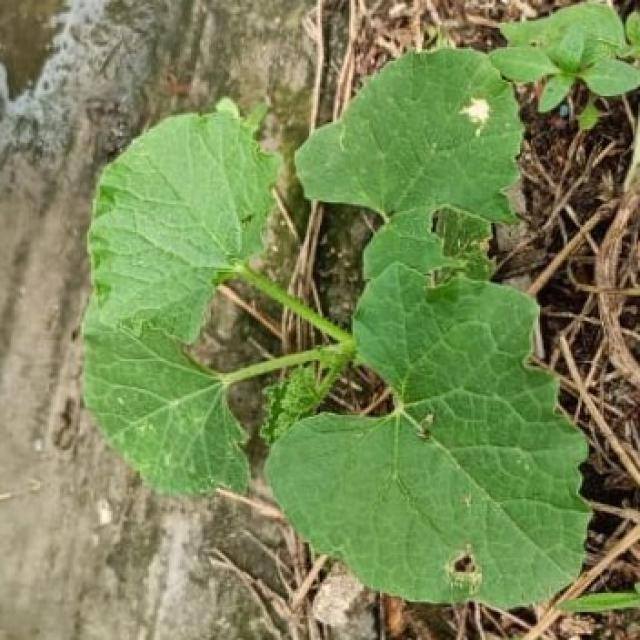plant: (85, 49, 588, 606)
